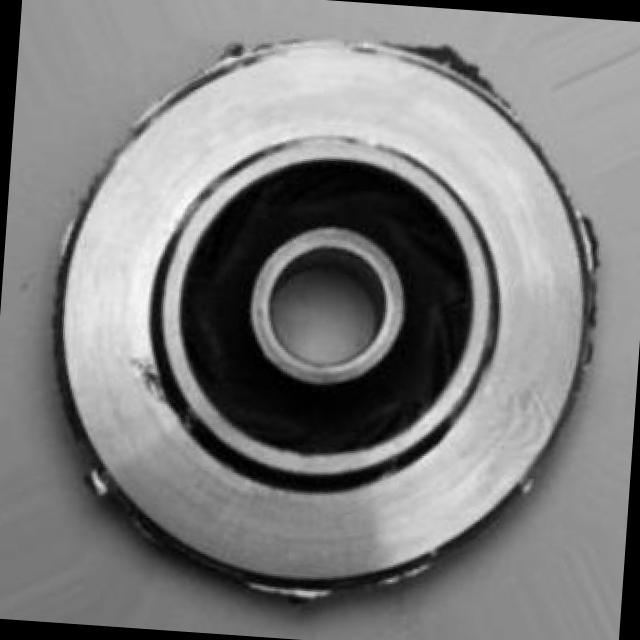Defect: (84, 460, 142, 528)
